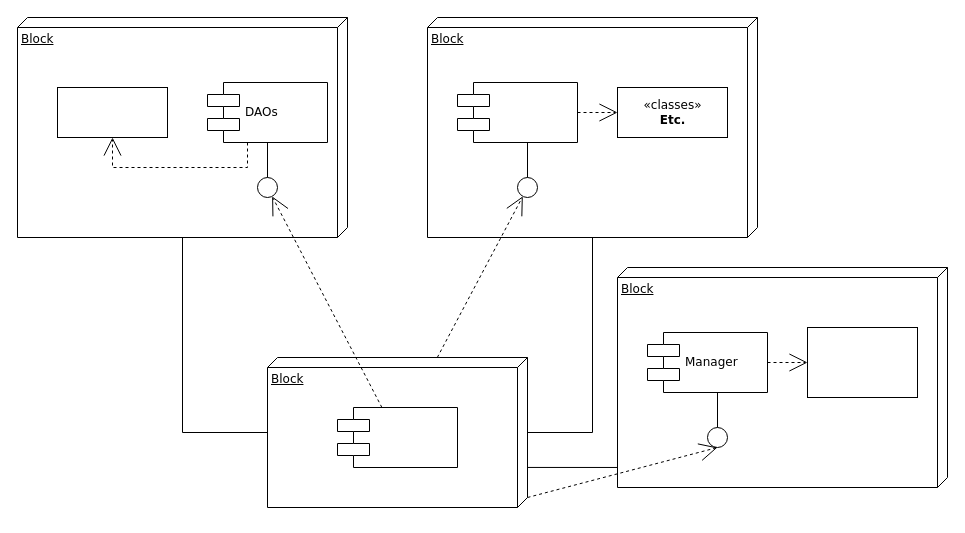
Image size: 965x533. Some labels were removed from this diagram. The shapes that lost their labels are listed below. From the top down, each one's box as (x1, y1, x2, y2) in pixels, then its label:
(56, 86, 168, 138): «interface» IDao
(456, 82, 578, 142): Models
(806, 326, 918, 398): «class» Database Connection Manager
(336, 406, 458, 468): Database
